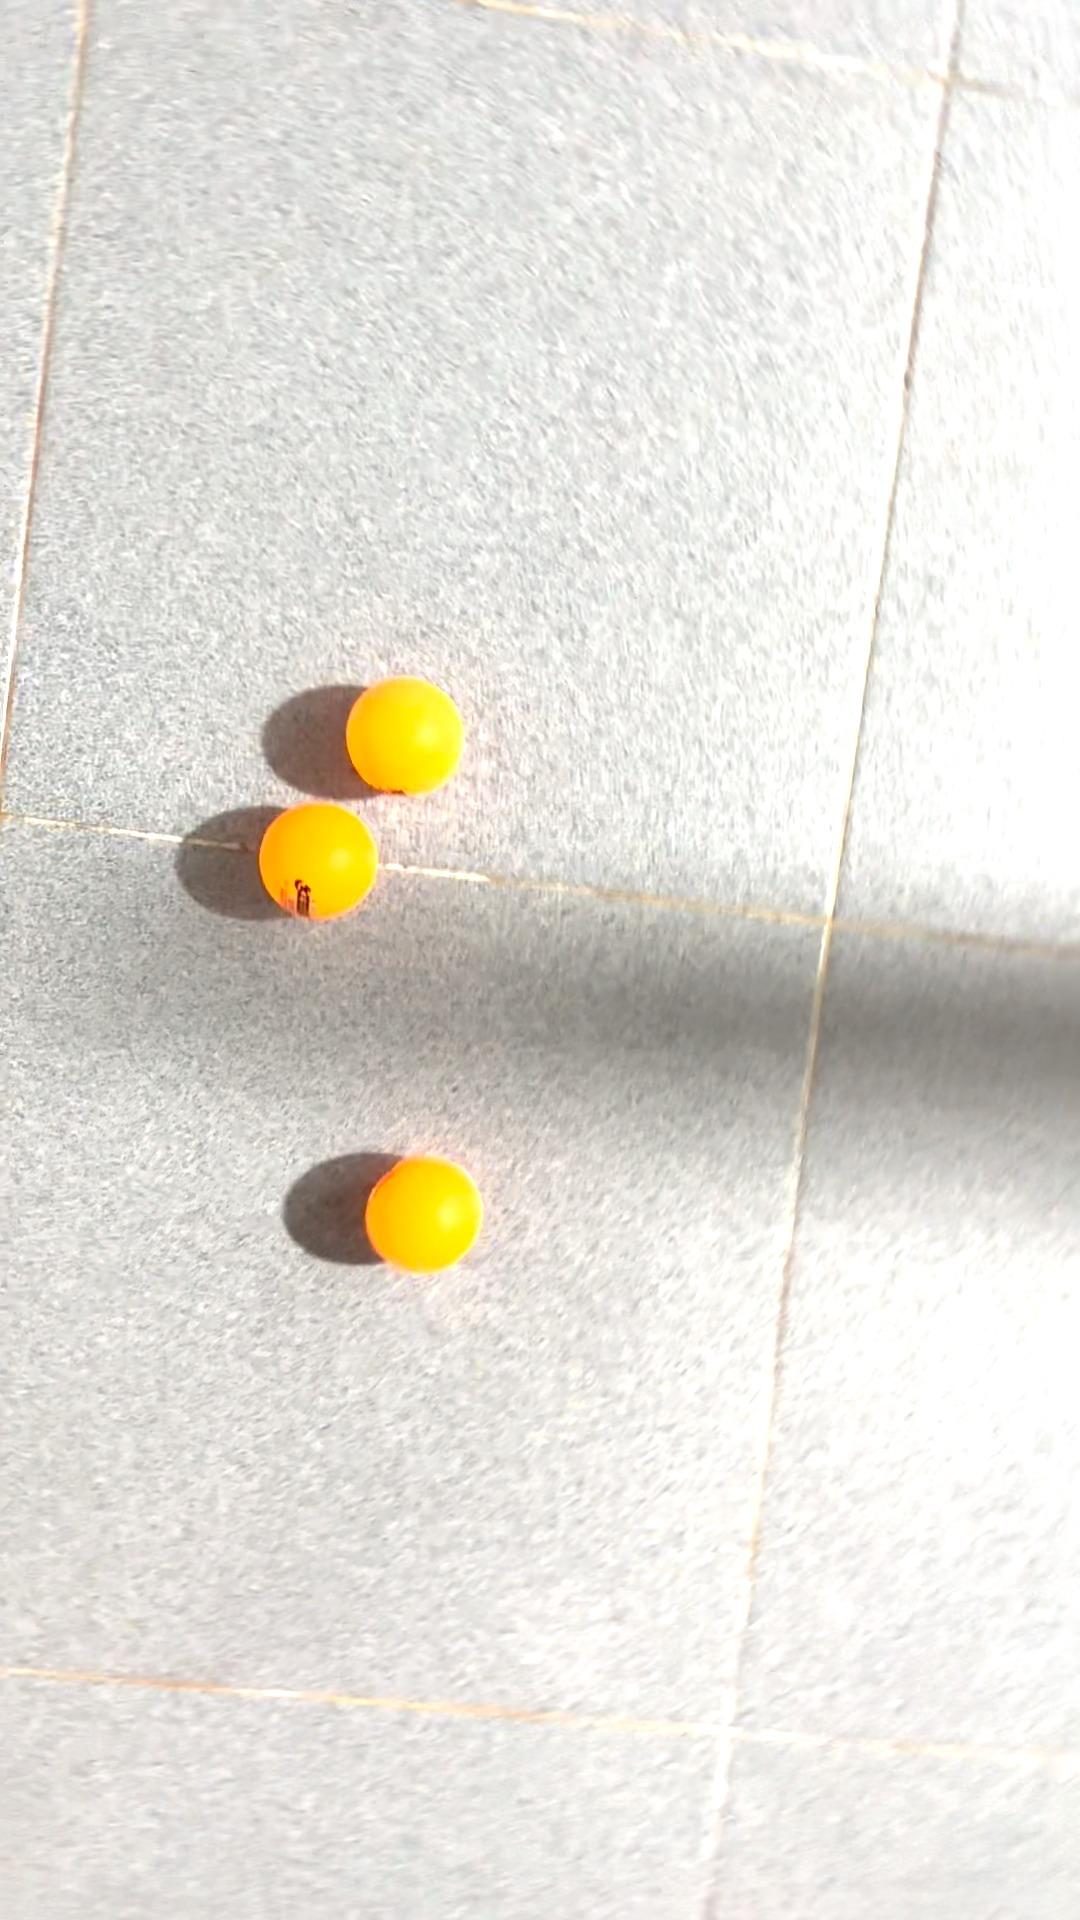oball: (248, 791, 390, 938), (355, 1138, 484, 1291), (338, 667, 468, 799)
